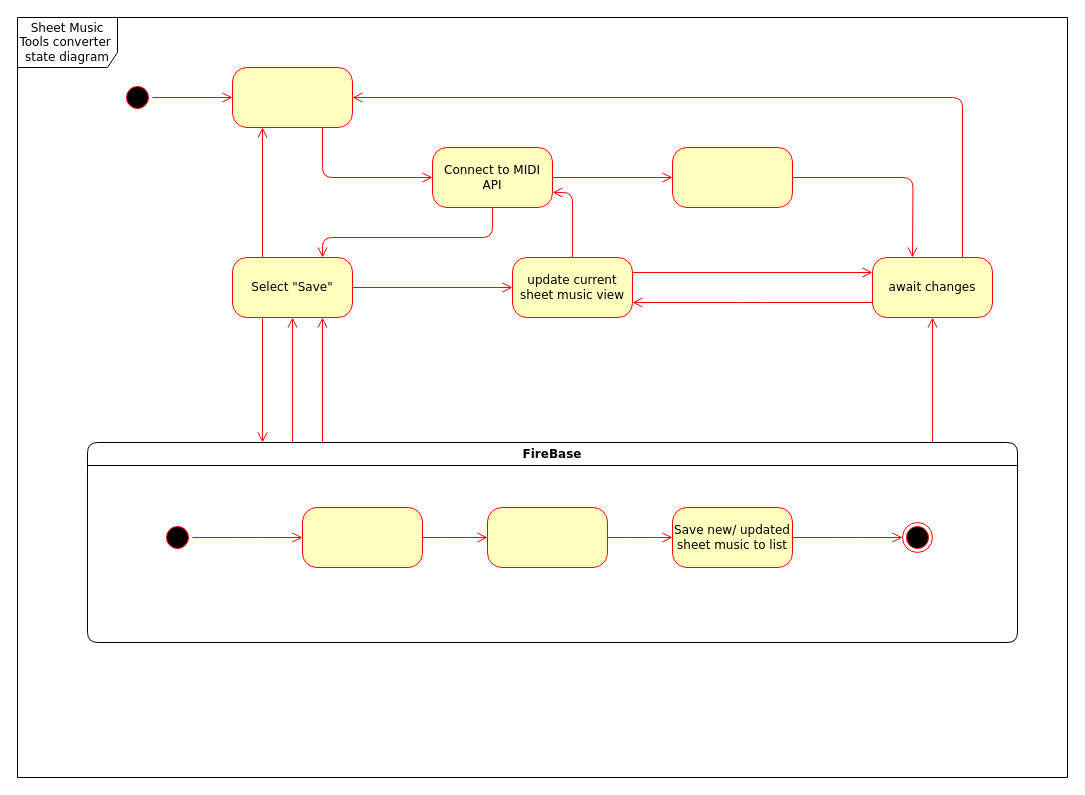
Image size: 1085x795. Some labels were removed from this diagram. The centre of each missing label's shape, as x and y in pixels:
"AuthN User" belongs at pixel 362 537.
"Read current sheet music or create new" belongs at pixel 732 177.
"Retrieve saved sheet music" belongs at pixel 547 537.
"Select a sheet music tool" belongs at pixel 292 97.
